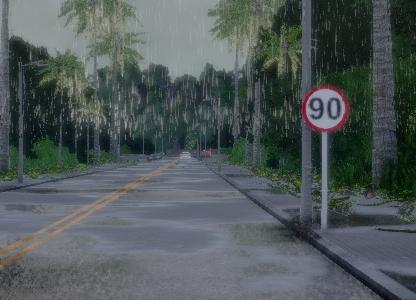Speed_90: (301, 85, 349, 135)
